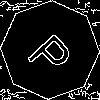P: (25, 25, 82, 81)
